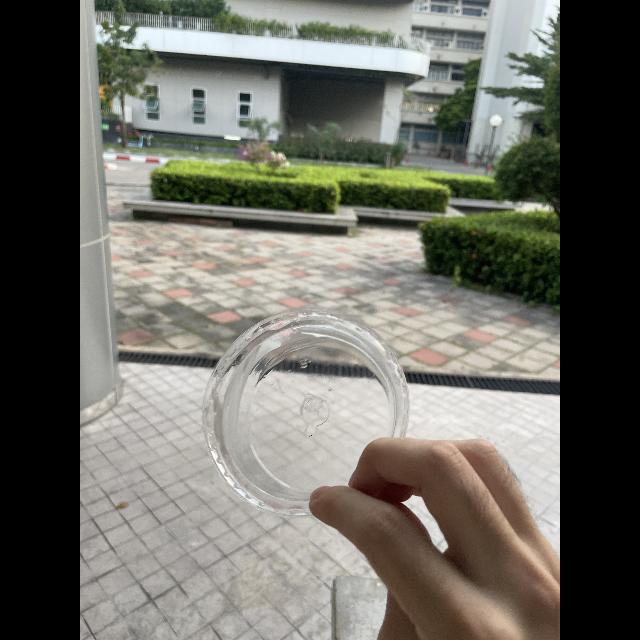plastic_cup_lid: (194, 291, 416, 517)
